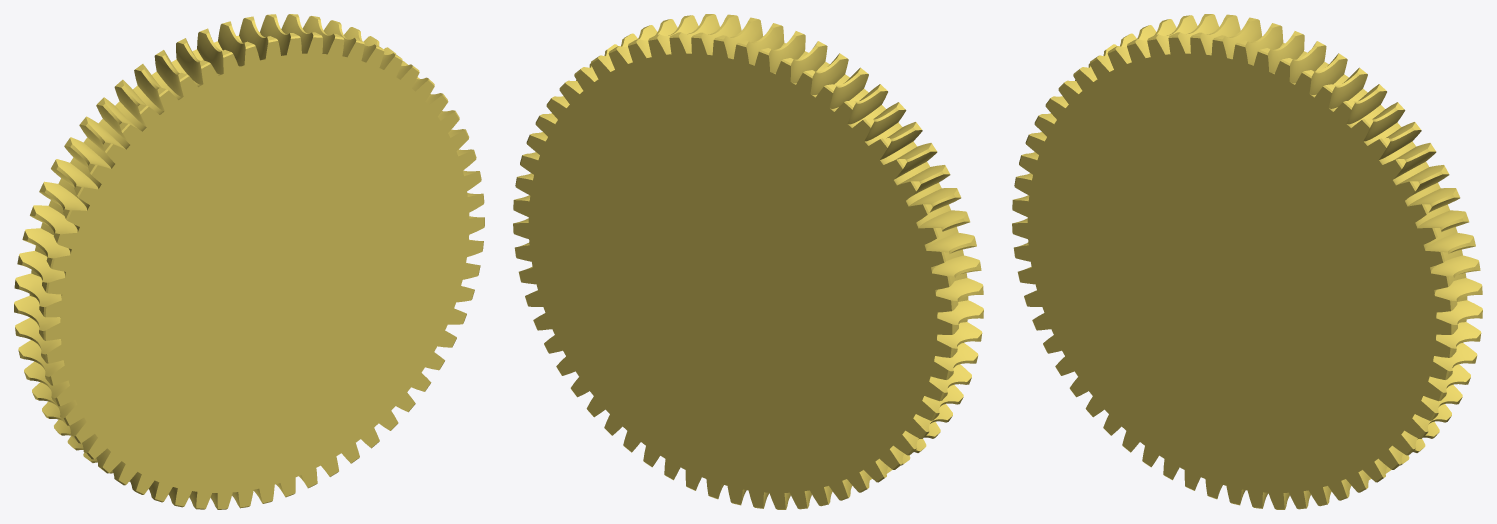
File: 2.4 Worm Wheel.glb
3 views of the same model, side by side, from view 1: azimuth 30°, elevation 25°; view 2: azimuth 150°, elevation 25°; view 3: azimuth 330°, elevation 25° (orthographic).
Visible parts, largest first — view 1: 零件4; view 2: 零件4; view 3: 零件4.
Boxes of the visible parts, x1,y1,x2,y2 form: 零件4: (14,14,484,509); 零件4: (513,14,983,509); 零件4: (1012,14,1482,509).
Bounding box in the file's own units: 0.33 × 0.33 × 0.04.
